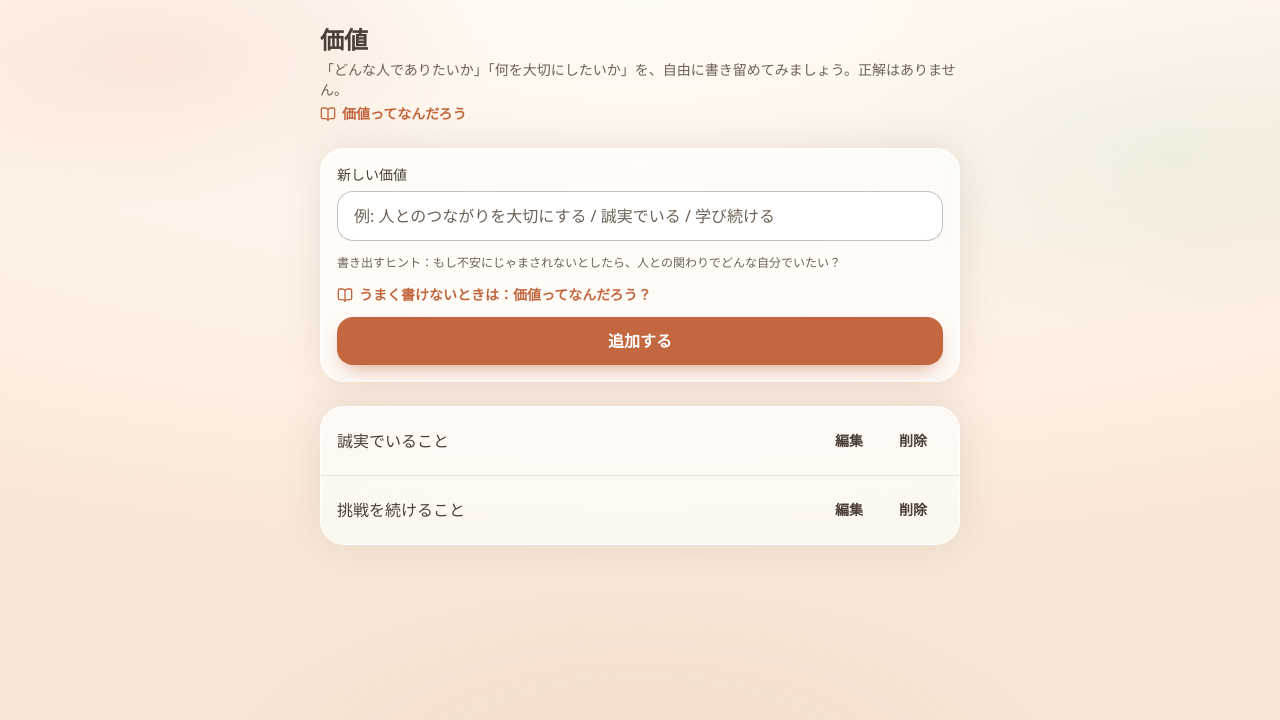
Test case: ValuesPage › 空欄で送信するとバリデーションエラーを表示する
Click the button "追加する": [640, 340] box [337, 316, 943, 364]
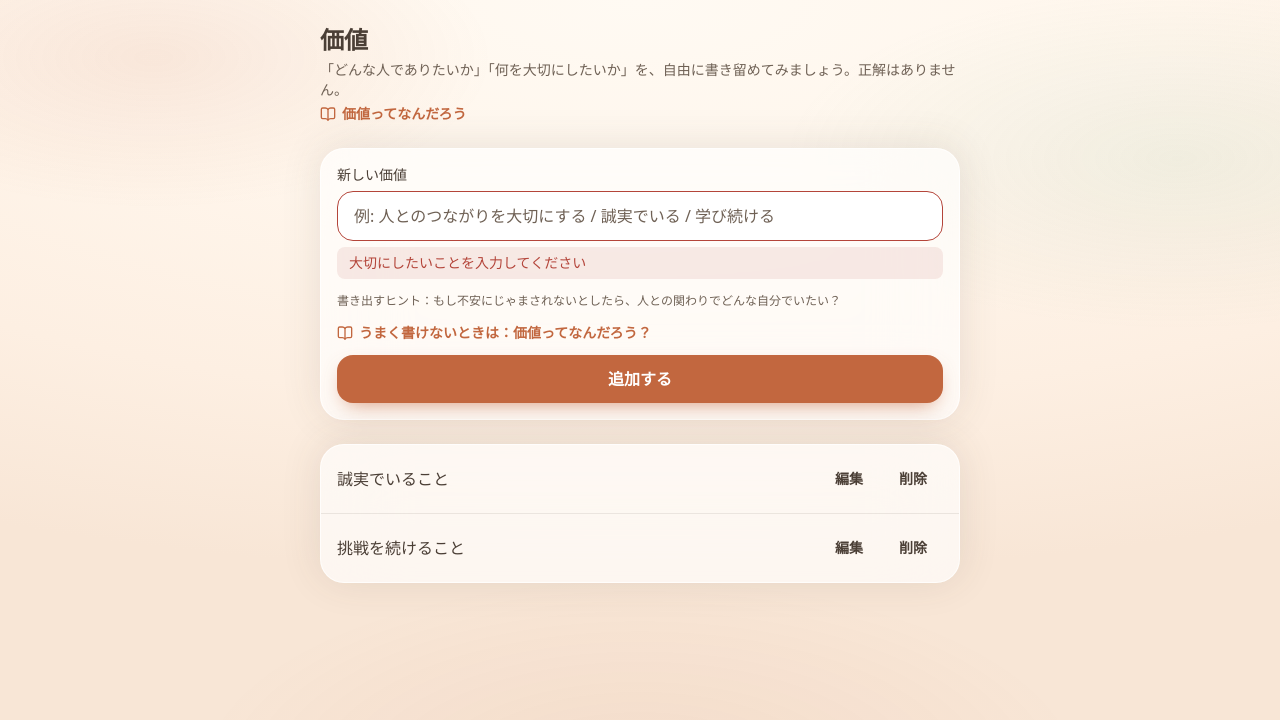
Check: the text "大切にしたいことを入力してください" is shown, box [337, 247, 943, 279]
